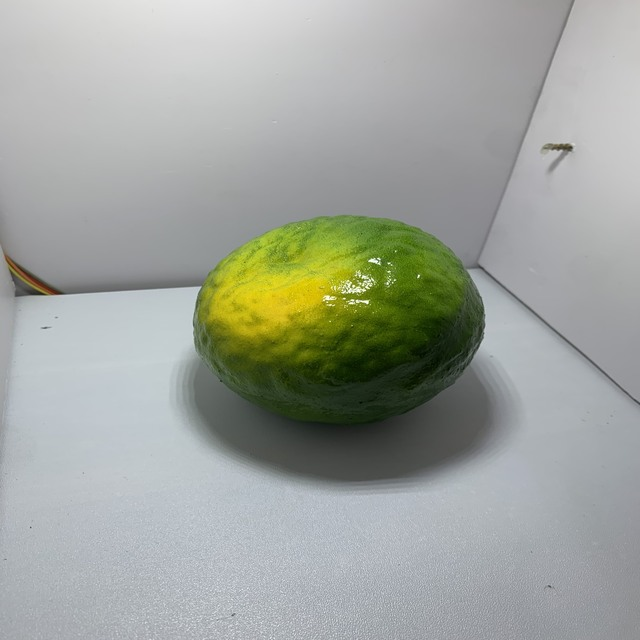Cam xanh: (185, 206, 495, 435)
